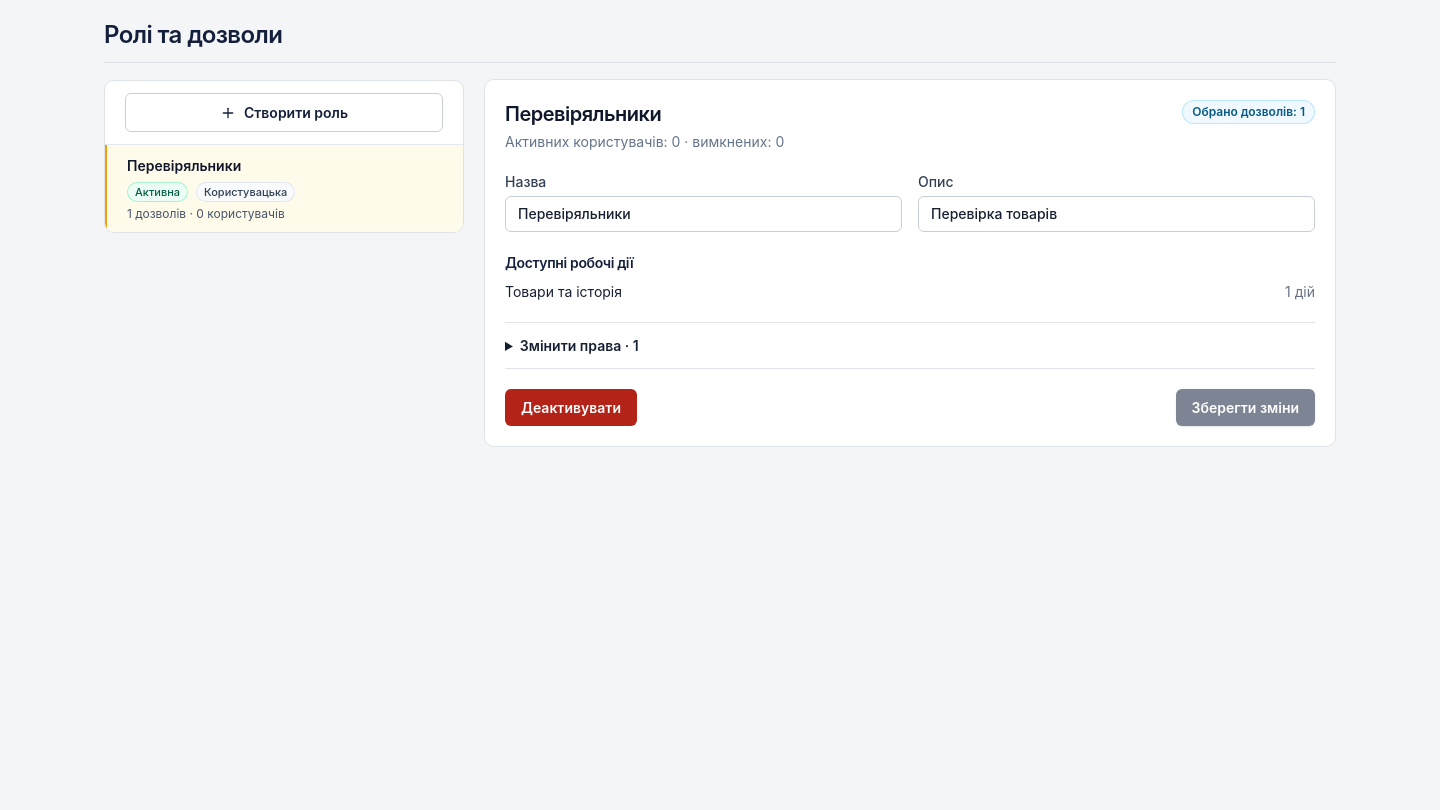
retains a status conflict after refreshing current state and never retries the mutation automatically
Check: the list named "Ролі" is shown, box [105,145,463,232]
Step 1. Click the button "Деактивувати" → (571, 408), box [505,389,637,426]
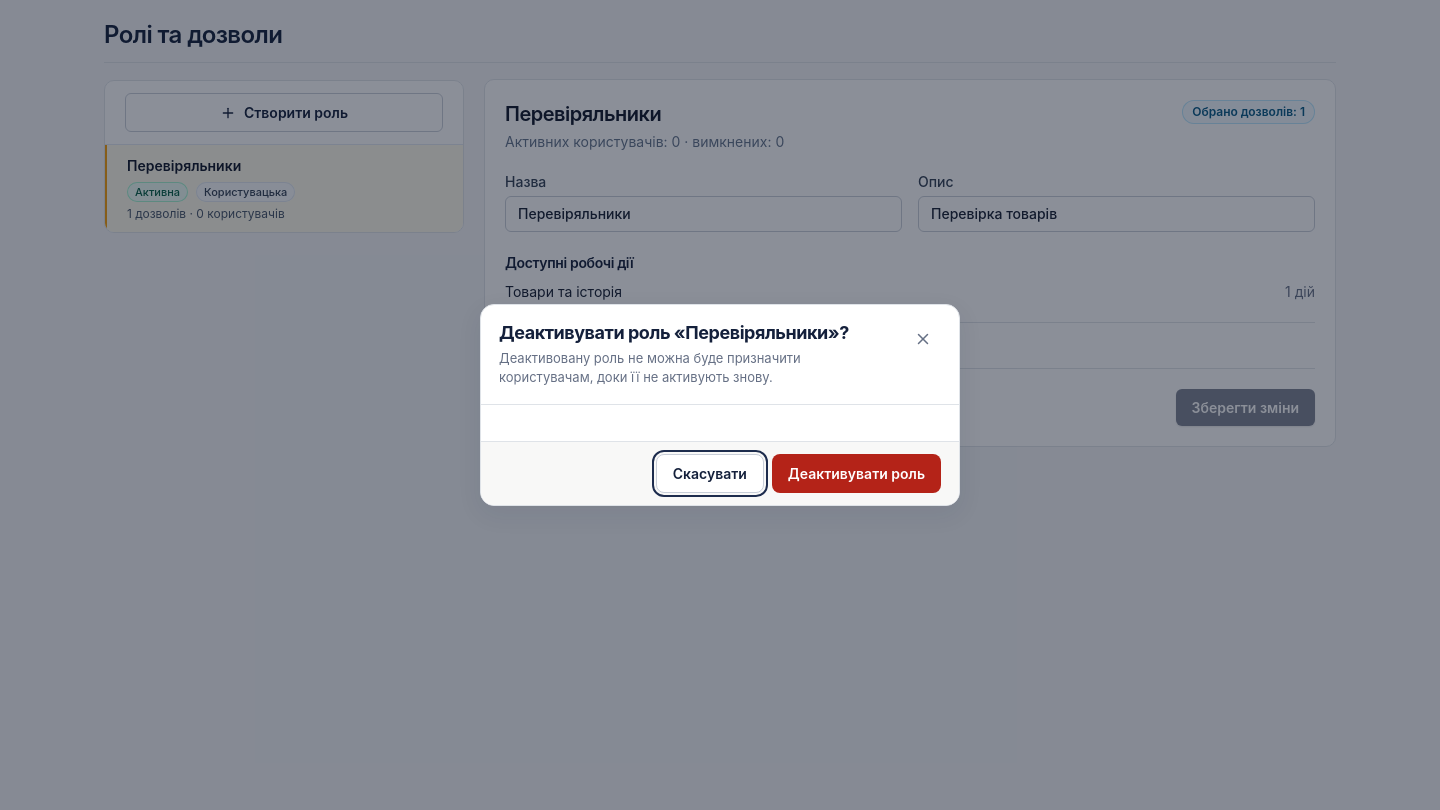
Step 2. Click the button "Деактивувати роль" → (856, 473), box [772,454,941,493]
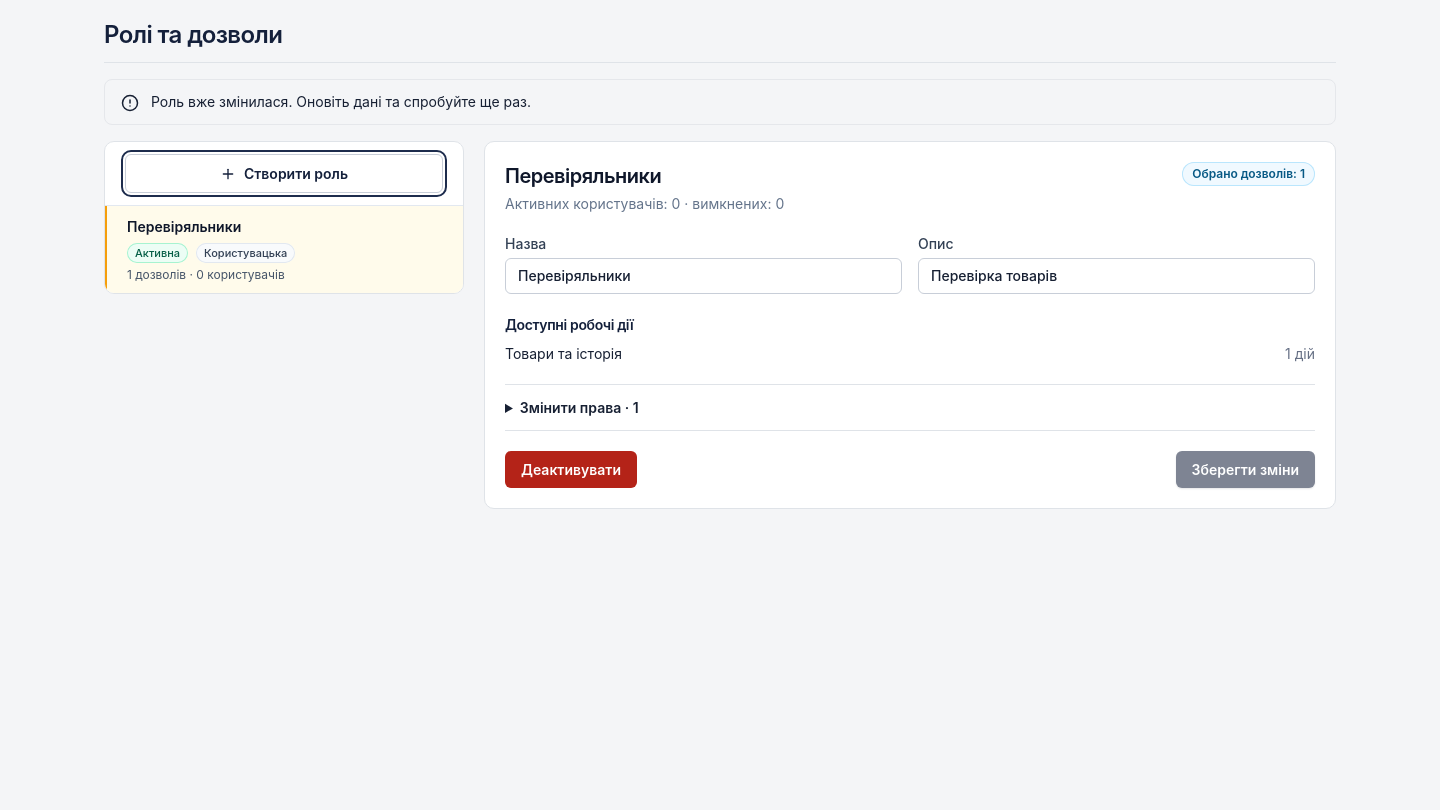
Check: the button "Деактивувати" is enabled, box [505,451,637,488]
Check: the text "Роль вже змінилася. Оновіть дані та спробуйте ще раз." is shown, box [151,93,531,110]
